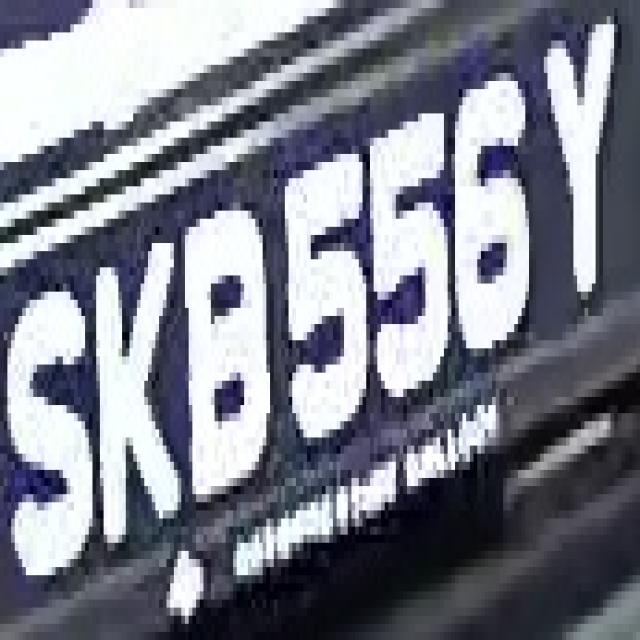5: (274, 138, 366, 437), (362, 114, 448, 422)
6: (448, 48, 532, 356)
B: (174, 186, 281, 518)
K: (92, 210, 185, 542)
S: (11, 268, 100, 600)
Y: (537, 24, 614, 292)
